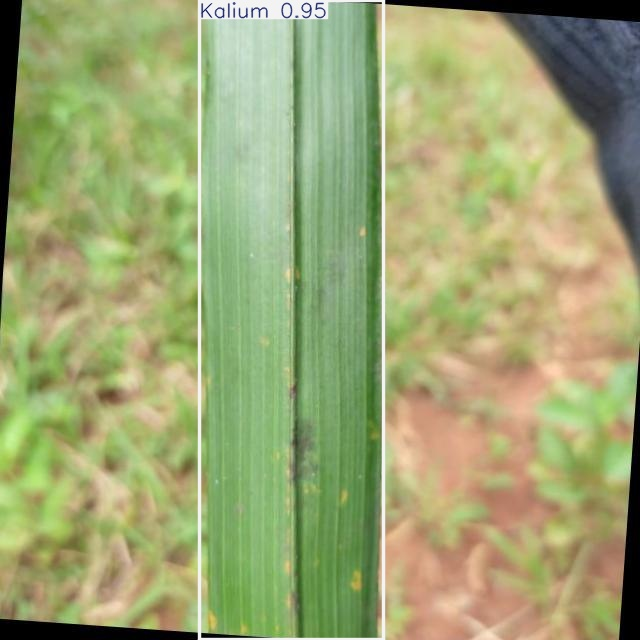Kalium: (199, 0, 384, 640)
